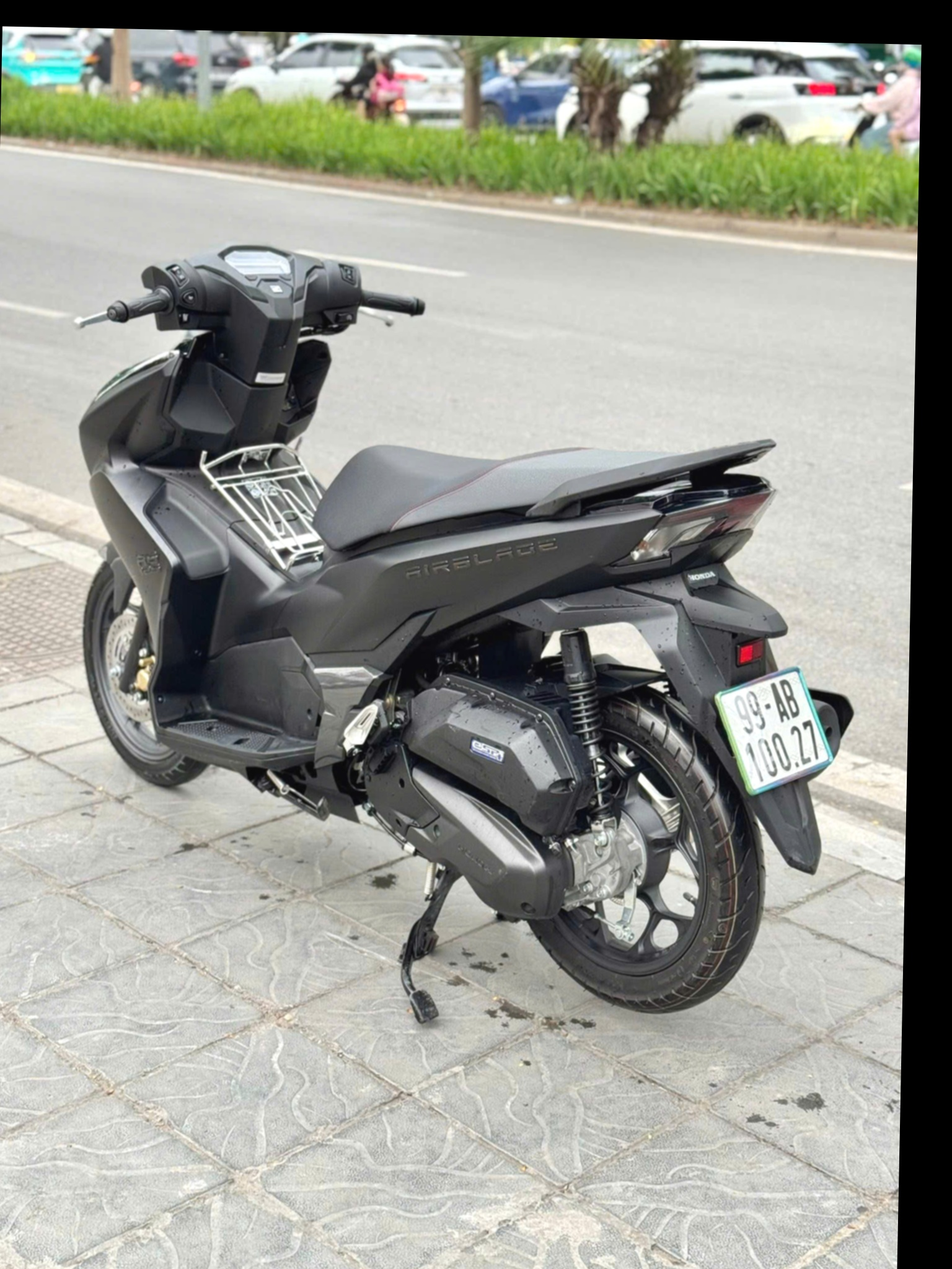Bien-so: (709, 659, 835, 804)
